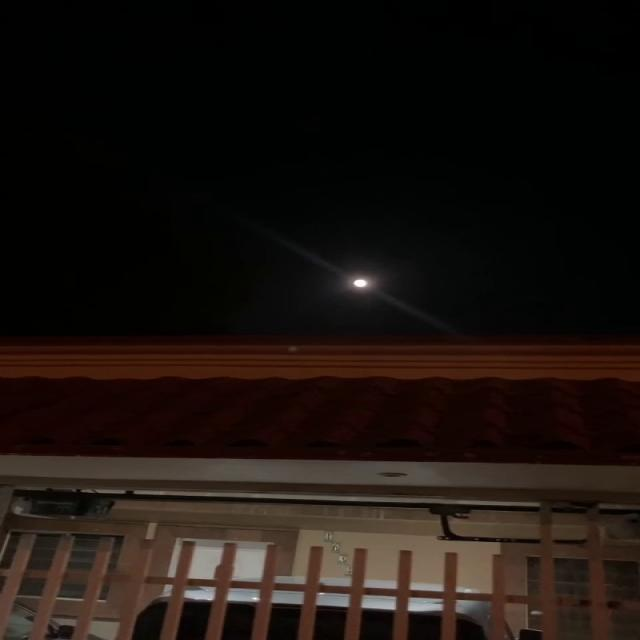moon: (346, 268, 381, 295)
